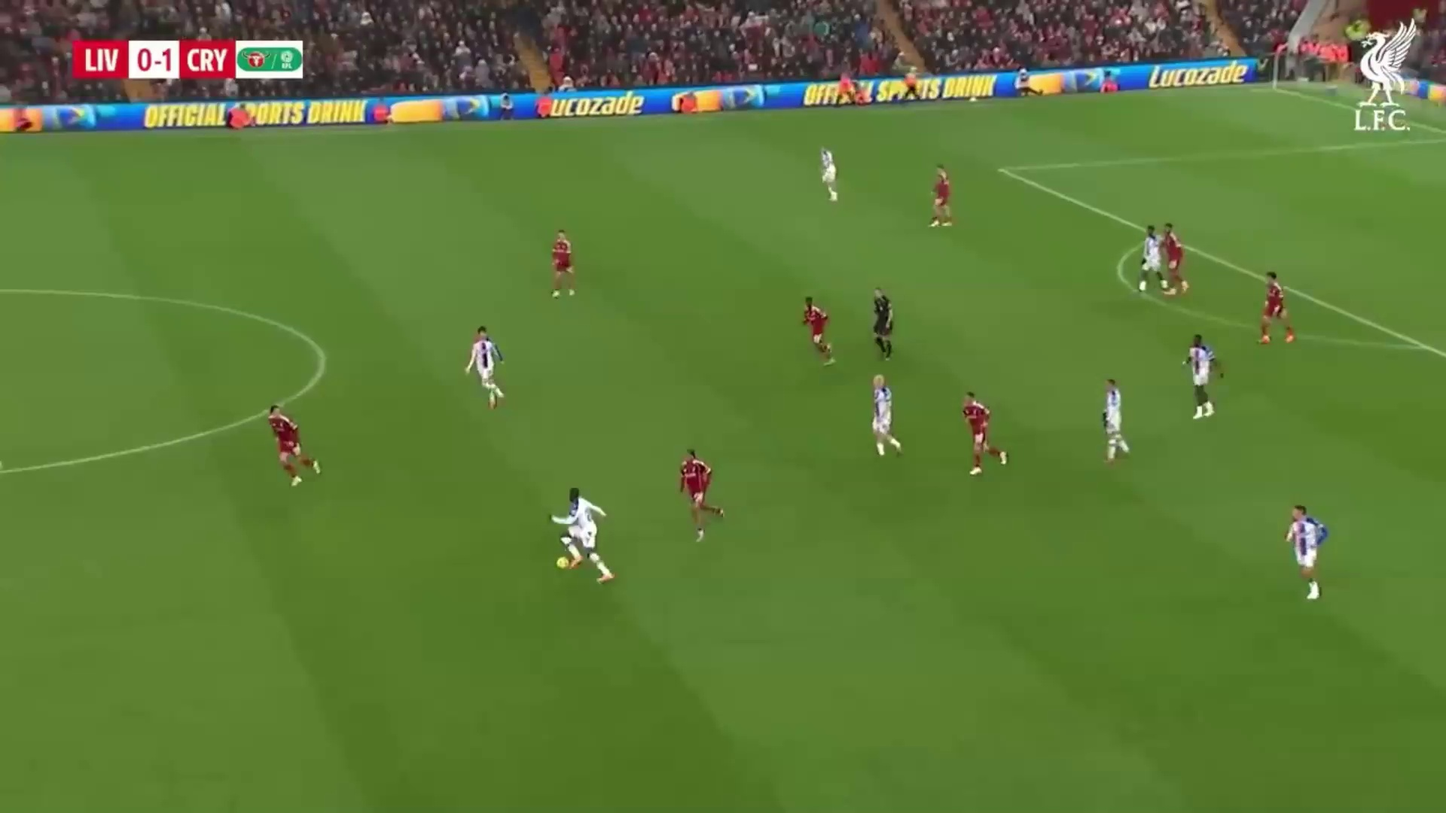player: (549, 486, 615, 581), (677, 449, 726, 543), (1285, 502, 1329, 602), (962, 390, 1009, 476), (265, 404, 314, 486), (1116, 229, 1171, 296), (463, 325, 506, 409), (1128, 224, 1176, 296), (1185, 335, 1219, 421), (871, 373, 905, 459), (1258, 273, 1298, 346), (1101, 379, 1131, 464), (1158, 223, 1189, 295), (1138, 224, 1169, 294), (803, 297, 835, 363), (871, 372, 896, 456), (549, 229, 578, 300), (872, 288, 896, 359), (929, 166, 955, 230), (802, 297, 827, 359), (1140, 224, 1163, 287), (819, 145, 841, 205)
